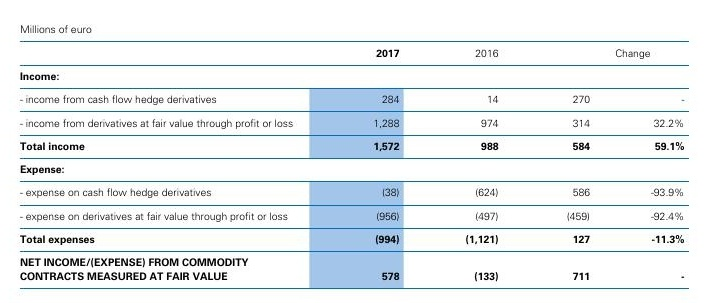table: (0, 0, 713, 303)
